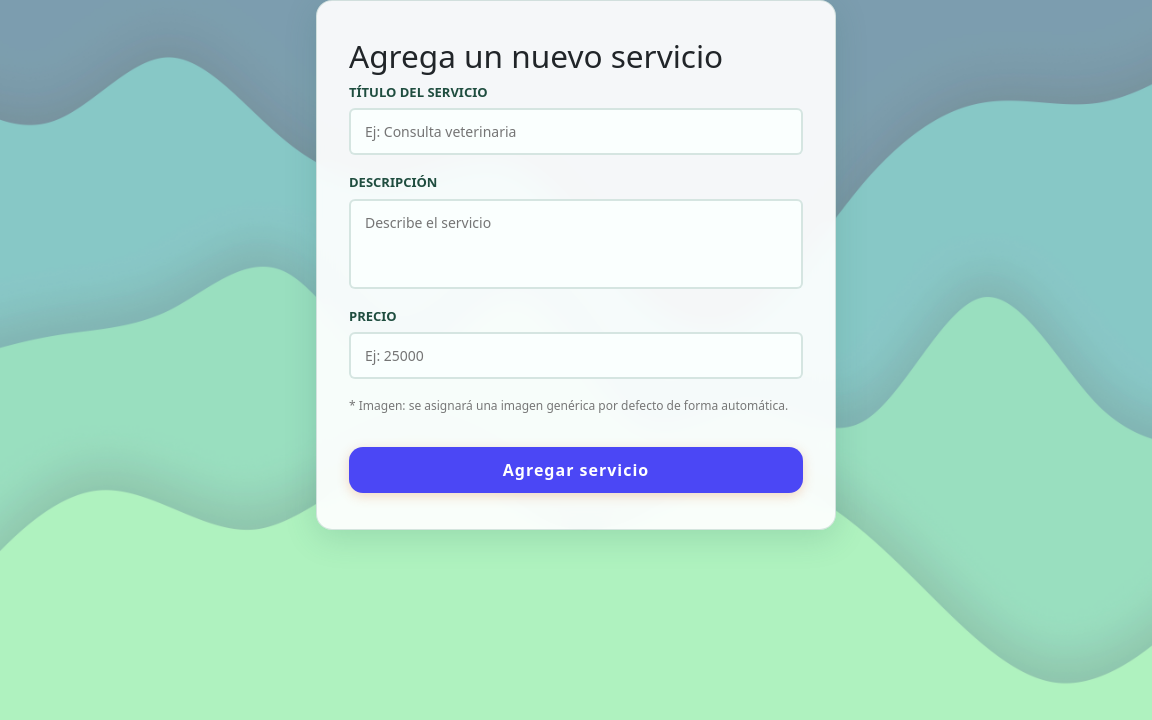
Test: FormularioServicio › PU-010: Debe agregar el servicio y limpiar el formulario con datos completos
In the field with placeholder "Ej: Consulta veterinaria": (576, 132) [349,108,803,155], type "Baño y corte"
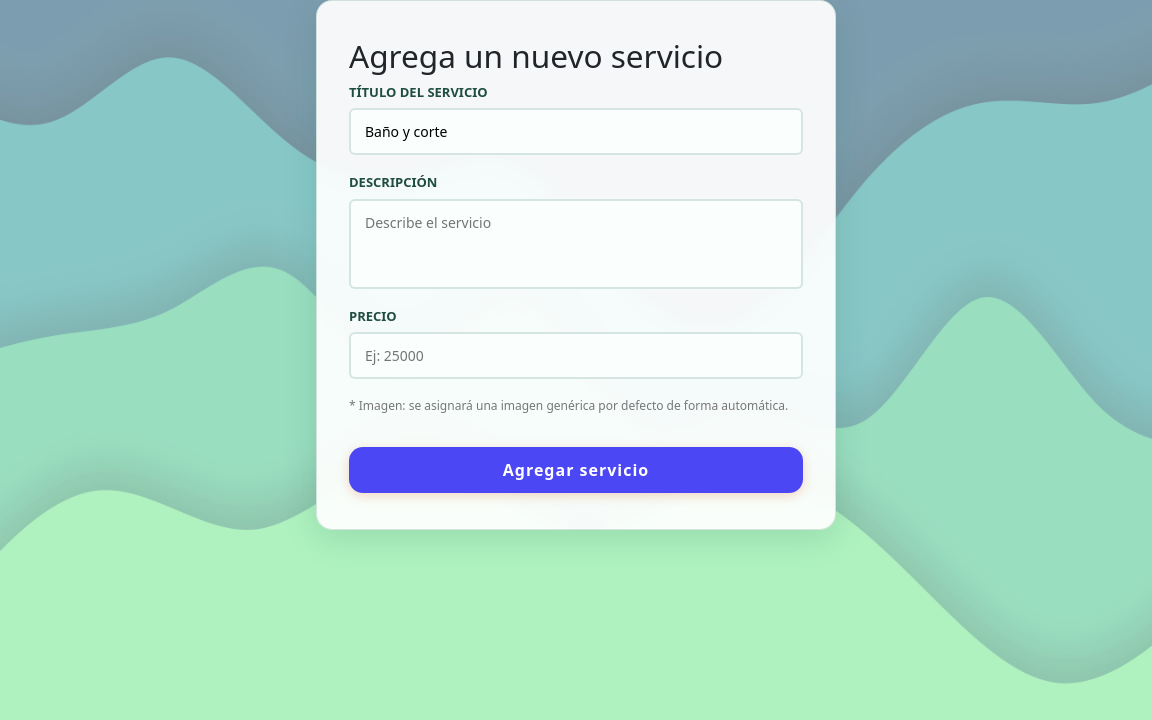
In the text box with placeholder "Describe el servicio": (576, 244) [349,199,803,289], type "Baño completo y corte de pelo."
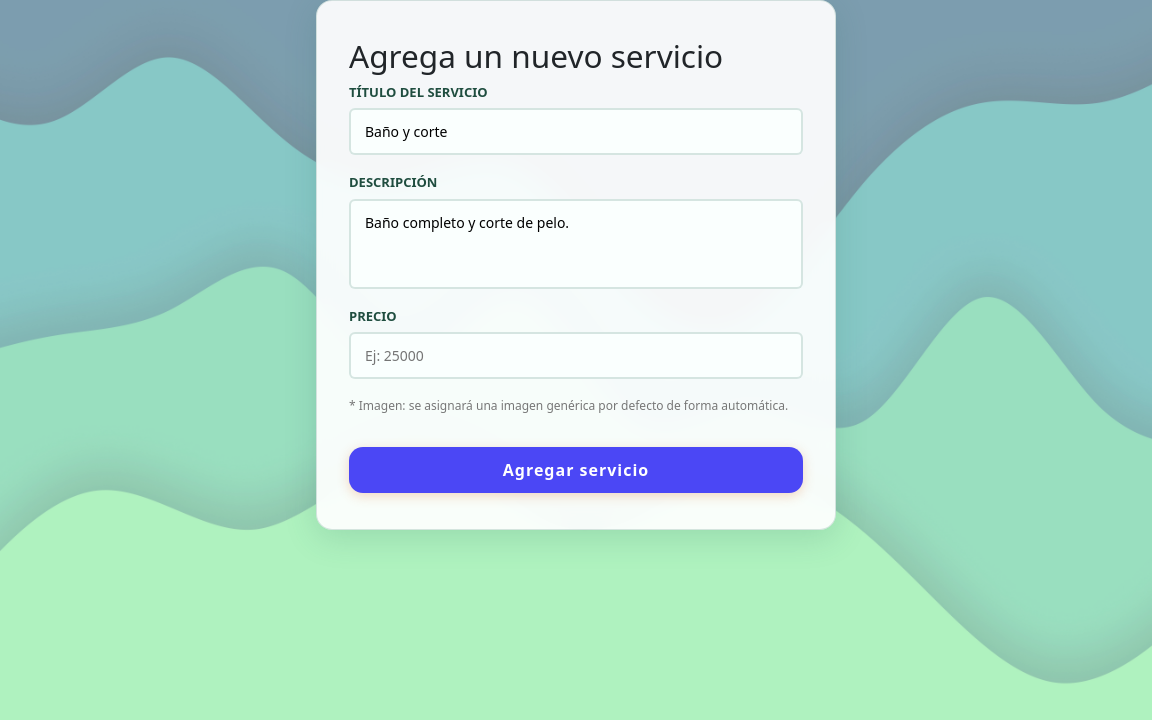
In the number field with placeholder "Ej: 25000": (576, 356) [349,332,803,379], type "15000"
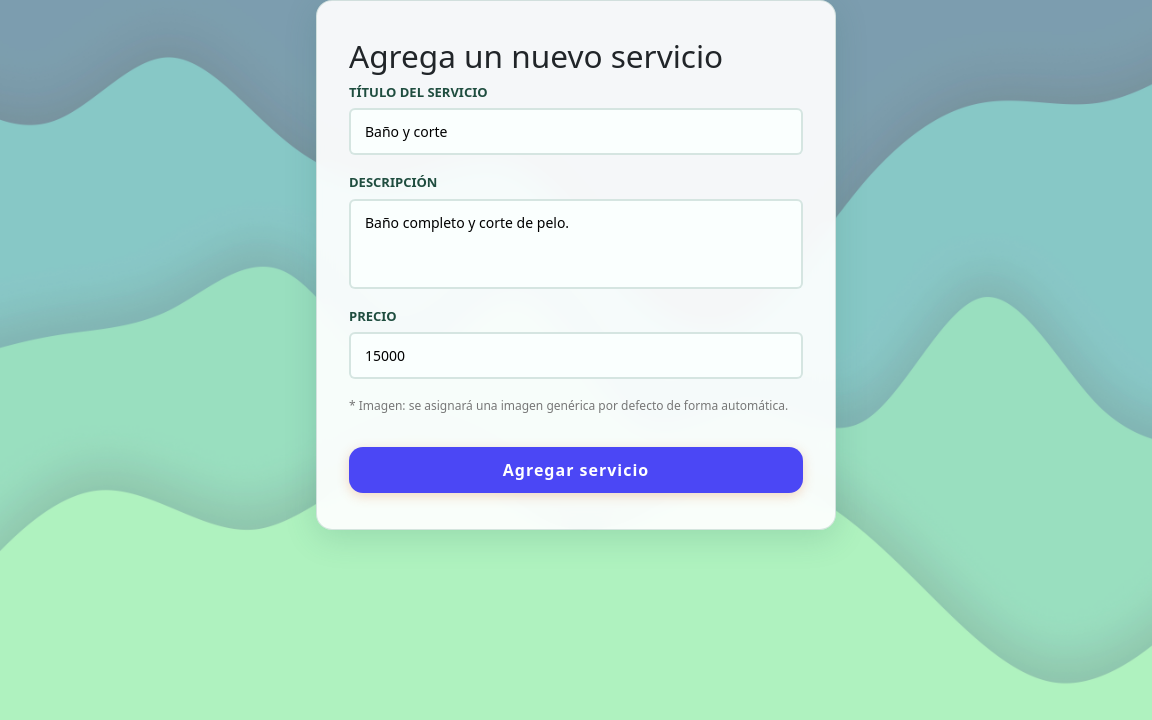
Click the button "Agregar servicio": (576, 470) [349,447,803,493]
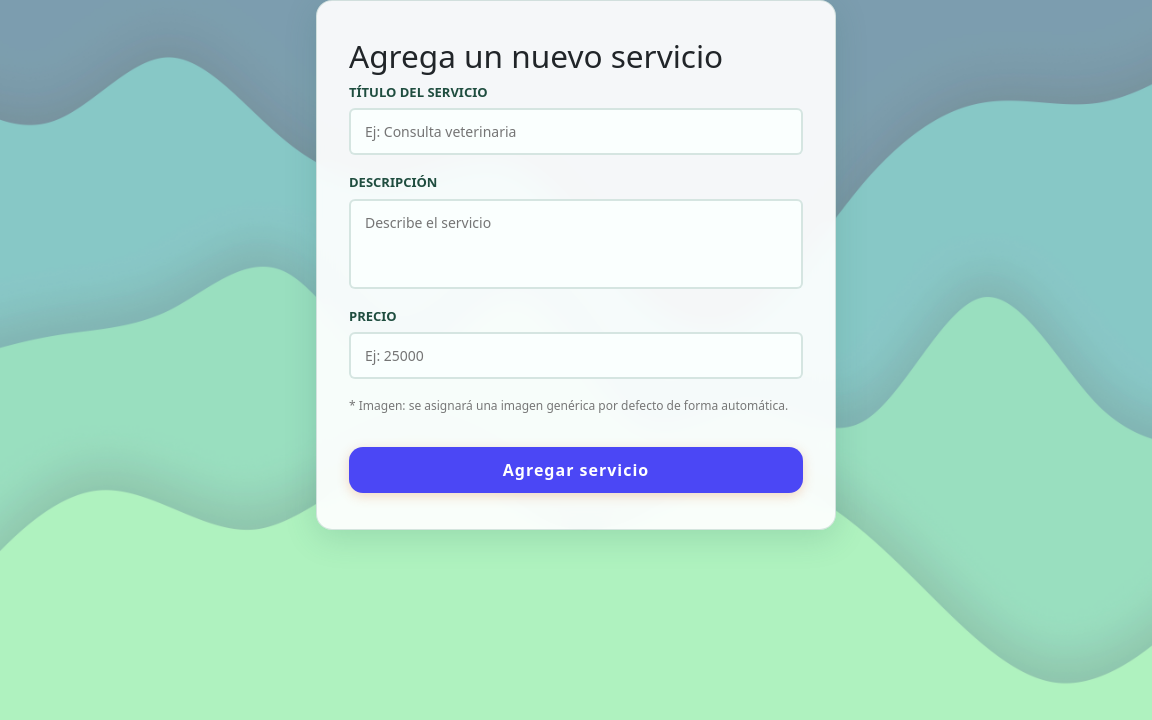
Check: the field with placeholder "Ej: Consulta veterinaria" is empty, box [349,108,803,155]
Check: the text box with placeholder "Describe el servicio" is empty, box [349,199,803,289]
Check: the number field with placeholder "Ej: 25000" is not empty, box [349,332,803,379]
